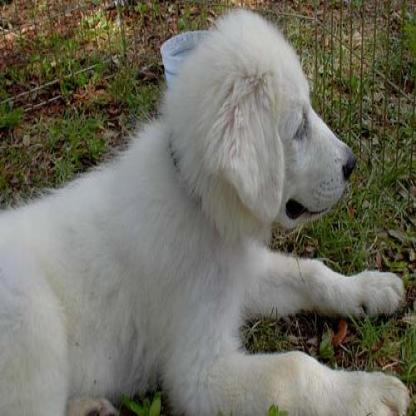Great_Pyrenees: (0, 7, 409, 413)
